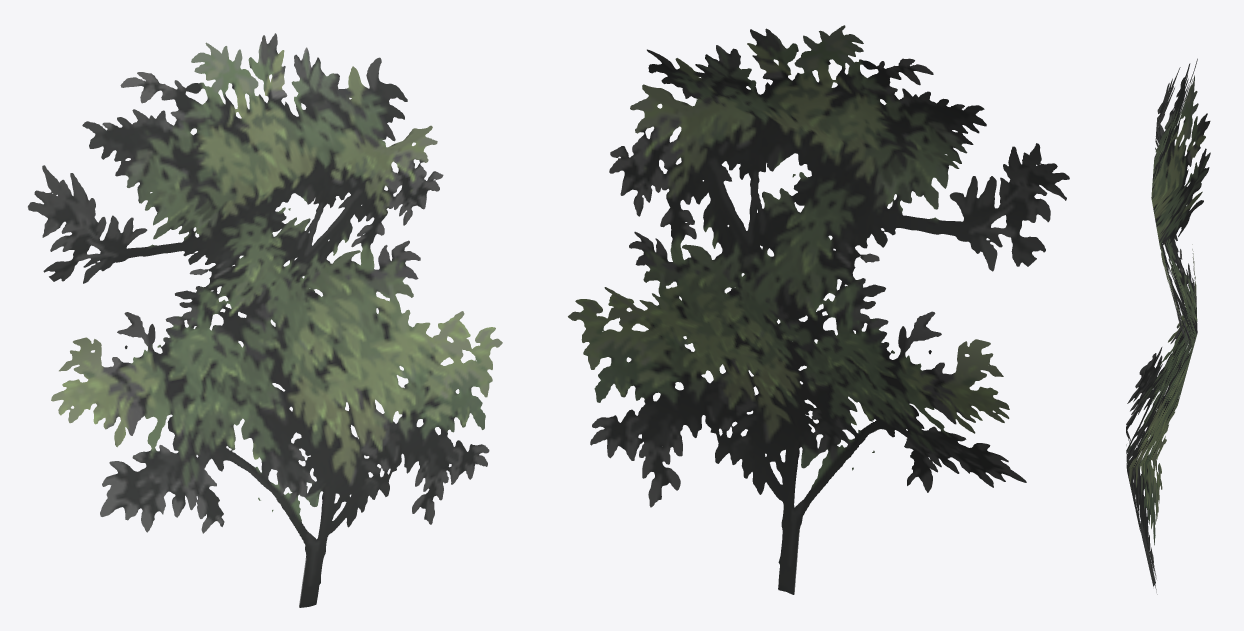
File: Jiubajie_Grass03_fbx.FBX
The picture shows the model from 3 angles, left to right: view 1: azimuth 30°, elevation 25°; view 2: azimuth 150°, elevation 25°; view 3: azimuth 270°, elevation 25°; orthographic projection. The views are drawn at different scales.
Visible parts, largest first — view 1: Jiubajie_Grass03_fbx; view 2: Jiubajie_Grass03_fbx; view 3: Jiubajie_Grass03_fbx.
Boxes of the visible parts, x1,y1,x2,y2 form: Jiubajie_Grass03_fbx: (27,33,502,607); Jiubajie_Grass03_fbx: (568,25,1069,594); Jiubajie_Grass03_fbx: (1126,58,1210,594).
Bounding box in the file's own units: 1.03 × 1.13 × 0.2174.
